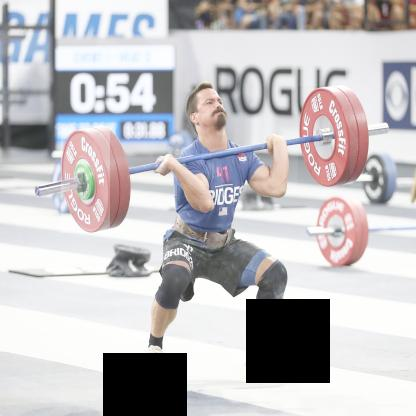barbell: (300, 87, 352, 189), (62, 130, 111, 234)
